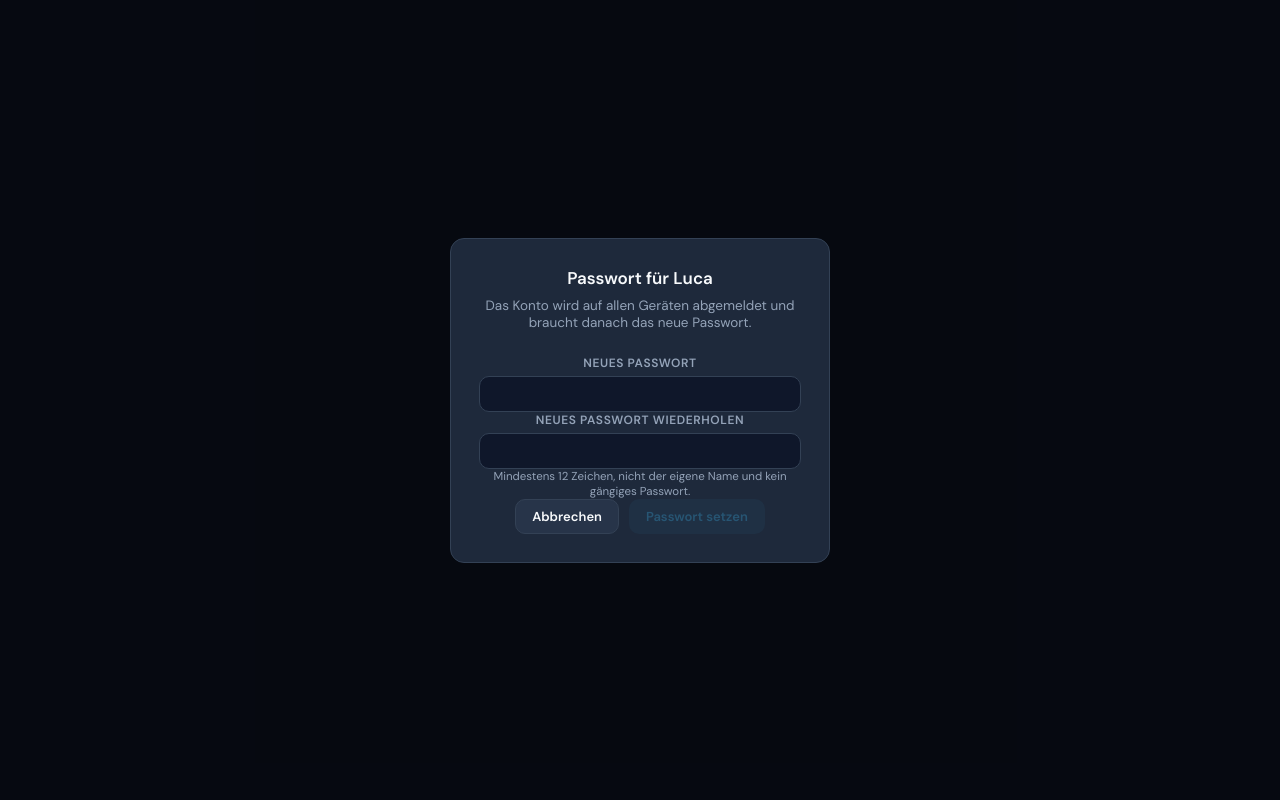
Test case: PasswordDialog › zeigt die Policy-Meldung des Backends im Klartext
This screenshot has width=1280, height=800.
Type "Baustelle-Winterthur-42" into the password field labelled "Neues Passwort" at (640, 394), box [479,376,801,412]
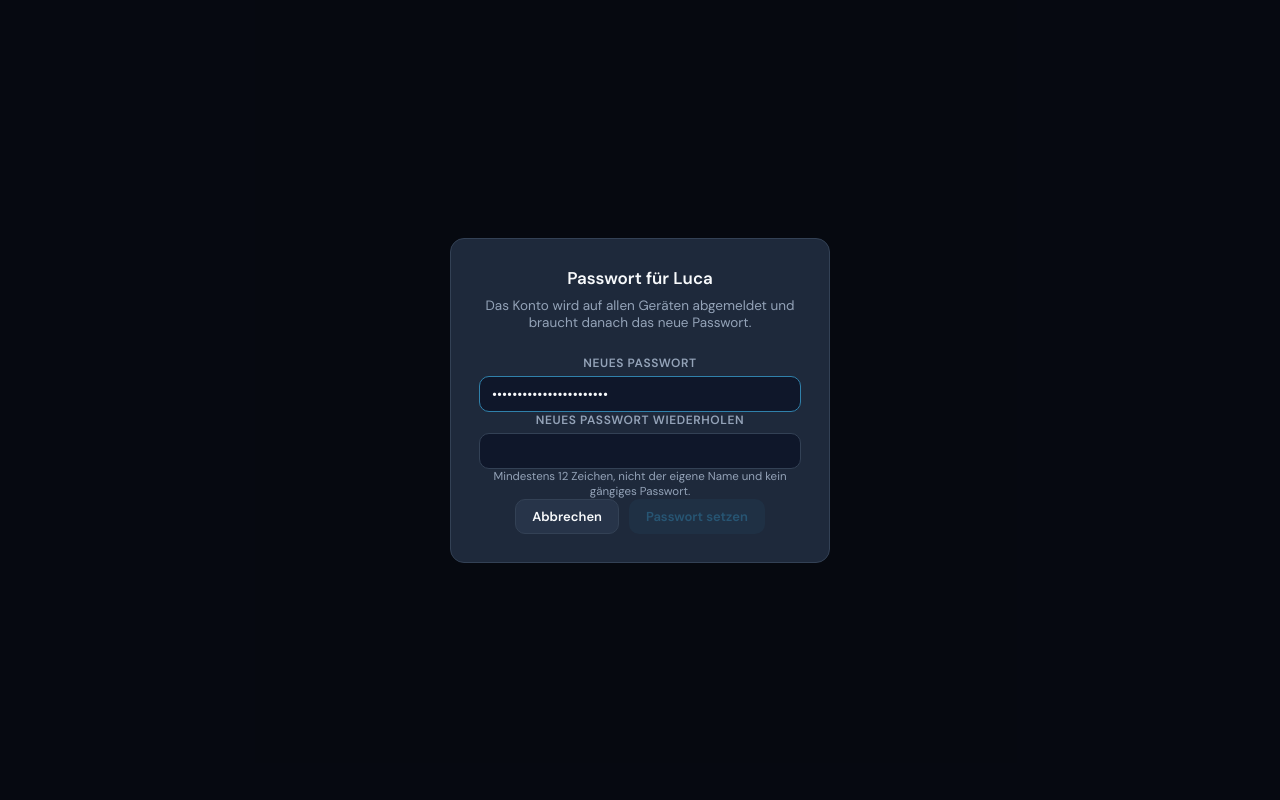
Type "Baustelle-Winterthur-42" into the password field labelled "Neues Passwort wiederholen" at (640, 450), box [479,432,801,468]
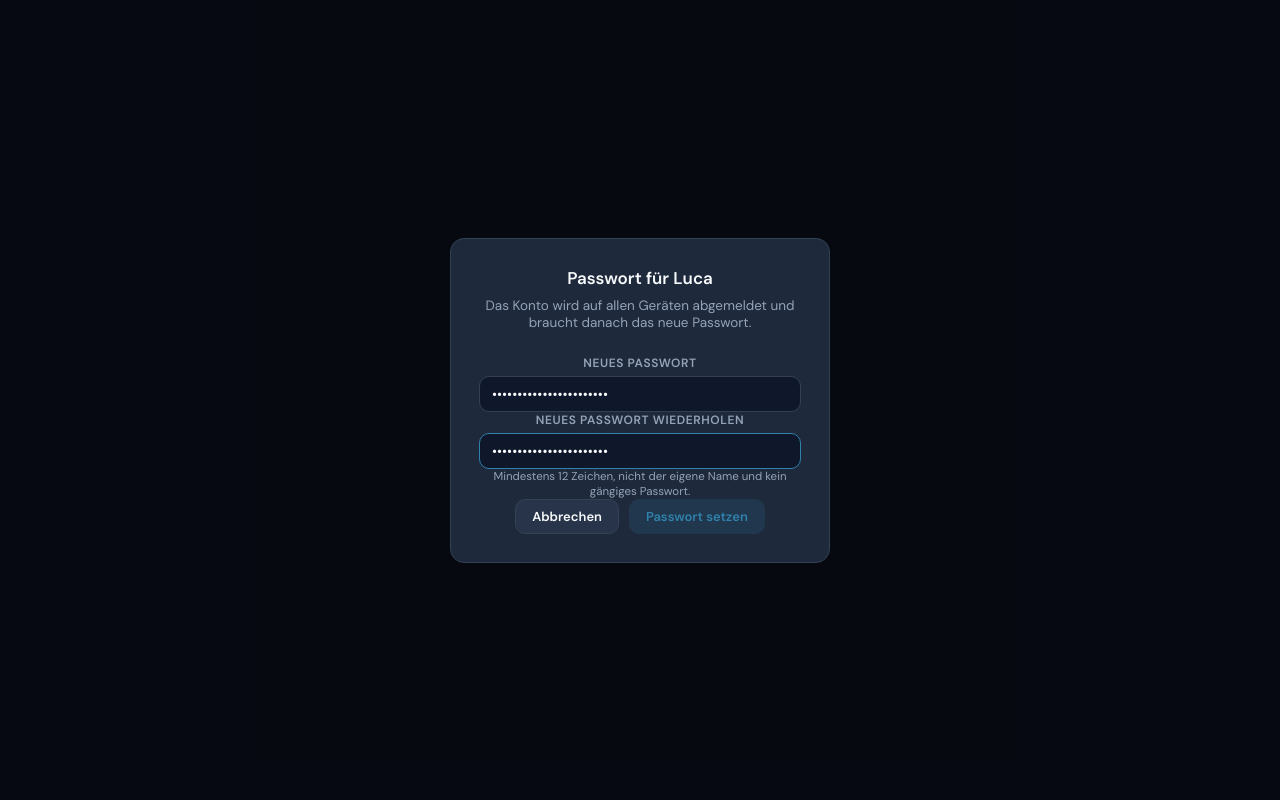
Click the button "Passwort setzen" at (697, 516), box [629,498,765,534]
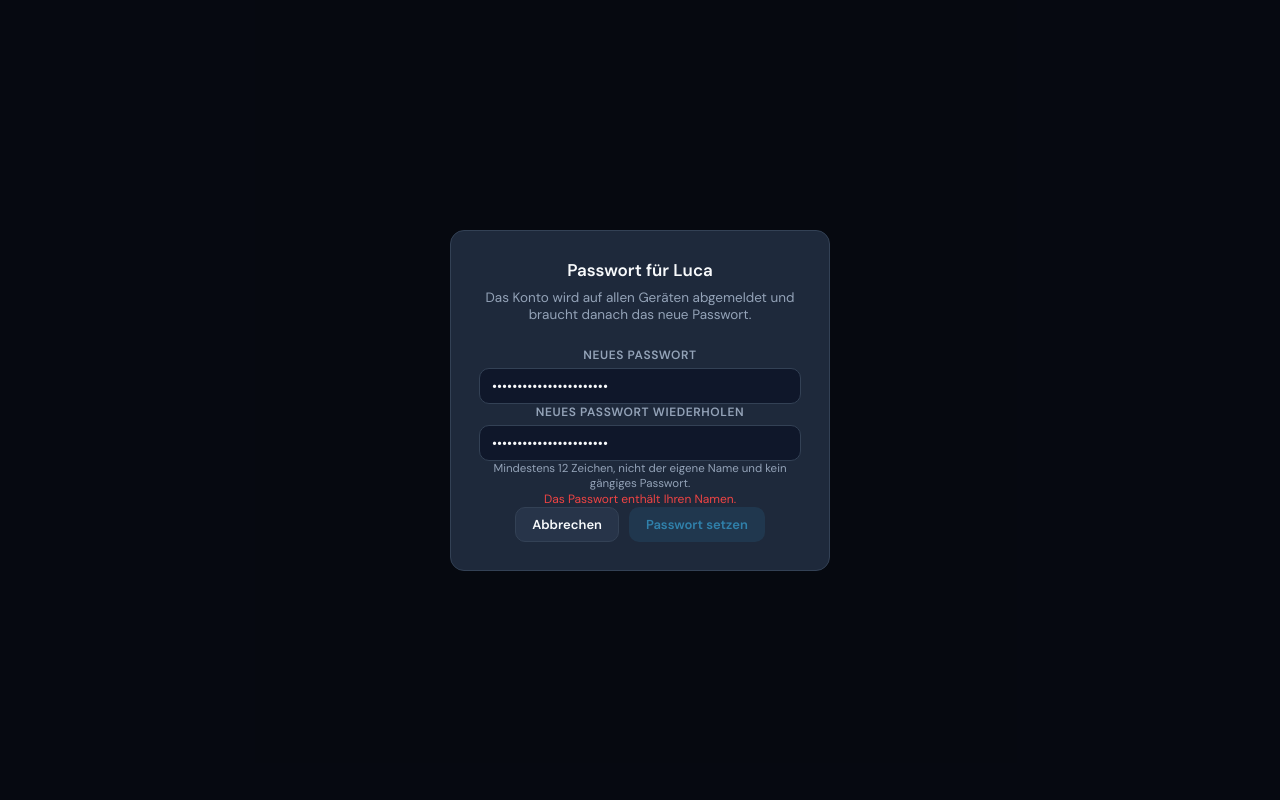
expect the text "Das Passwort enthält Ihren Namen." is shown: met, box [544,490,736,506]
